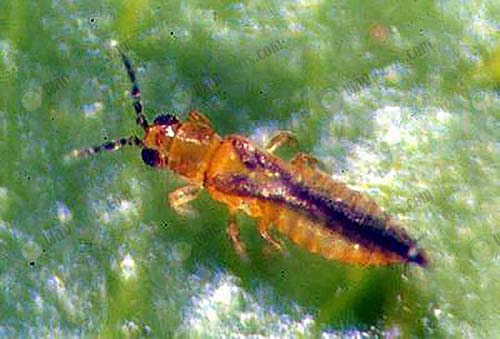Thrips: (77, 59, 448, 289)
